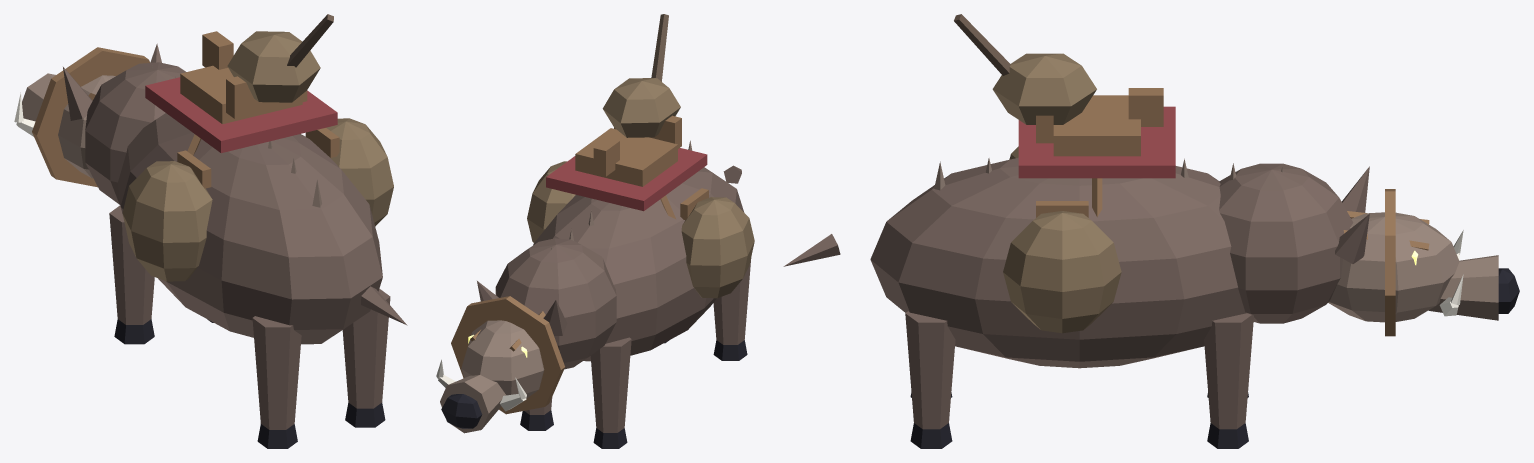
Rendered from boar.glb.
3 views of the same model, side by side, from view 1: azimuth 30°, elevation 25°; view 2: azimuth 150°, elevation 25°; view 3: azimuth 270°, elevation 25° (orthographic). The views are drawn at different scales.
Parts seen in each view (by area): view 1: boar; view 2: boar; view 3: boar.
Boxes of the visible parts, x1,y1,x2,y2 form: boar: [14, 14, 407, 448]; boar: [436, 14, 754, 448]; boar: [783, 14, 1519, 448].
Size of the model in its own units: 1.74 by 2.63 by 4.22.
